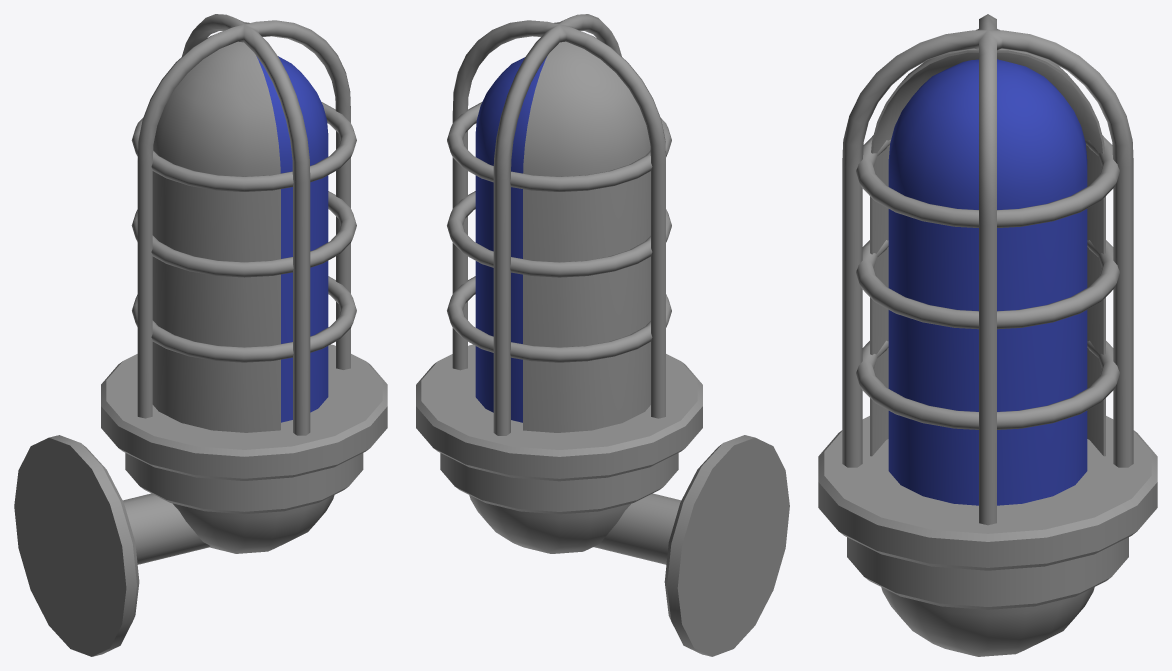
Rendered from light.fbx.
3 renders of one model, left to right at view 1: azimuth 30°, elevation 25°; view 2: azimuth 150°, elevation 25°; view 3: azimuth 270°, elevation 25°, orthographic. The views are drawn at different scales.
Visible parts, largest first — view 1: light; view 2: light; view 3: light.
Part boxes in pixels (x1=…): light: x1=14, y1=14, x2=387, y2=656; light: x1=416, y1=14, x2=789, y2=656; light: x1=818, y1=14, x2=1157, y2=656.
Bounding box in the file's own units: 28.14 × 52.11 × 23.28.
